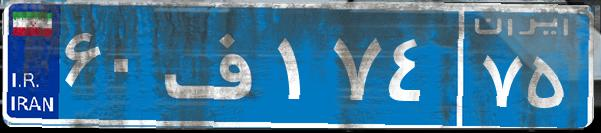0: (110, 28, 158, 105)
1: (273, 28, 330, 110)
4: (385, 28, 445, 110)
5: (525, 38, 570, 115)
6: (57, 26, 110, 107)
7: (330, 28, 385, 110), (475, 38, 525, 113)
ف: (158, 15, 273, 115)
